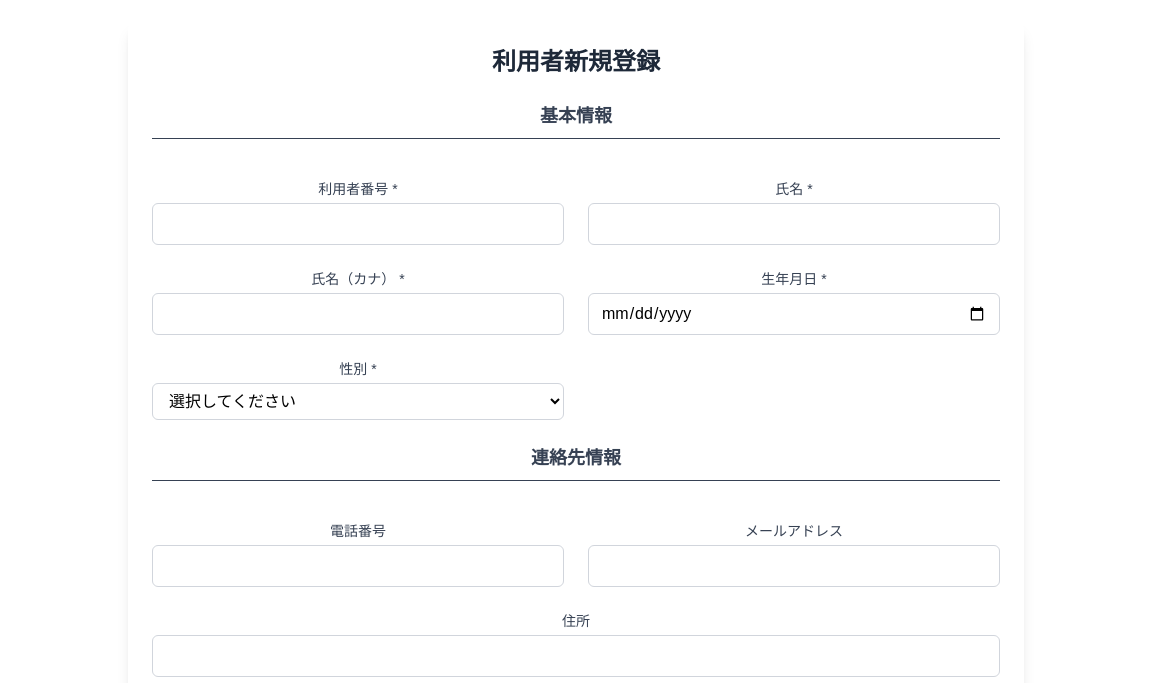
Test: ClientForm › エラーハンドリング › 利用者番号重複エラーが表示される
//  必須項目を入力
In the field labelled "利用者番号 *": {"x": 358, "y": 224} [152,203,564,245], type "CL001"
In the field labelled "氏名 *": {"x": 794, "y": 224} [588,203,1000,245], type "新規利用者"
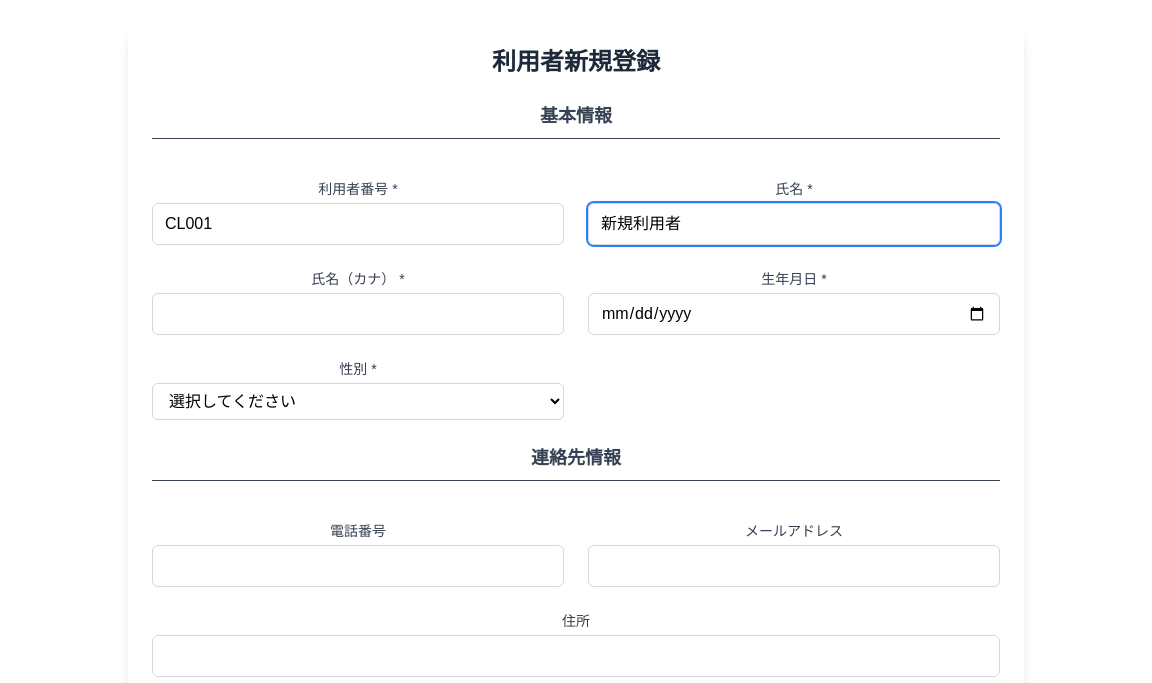
In the field labelled "氏名（カナ） *": {"x": 358, "y": 314} [152,293,564,335], type "シンキリヨウシャ"
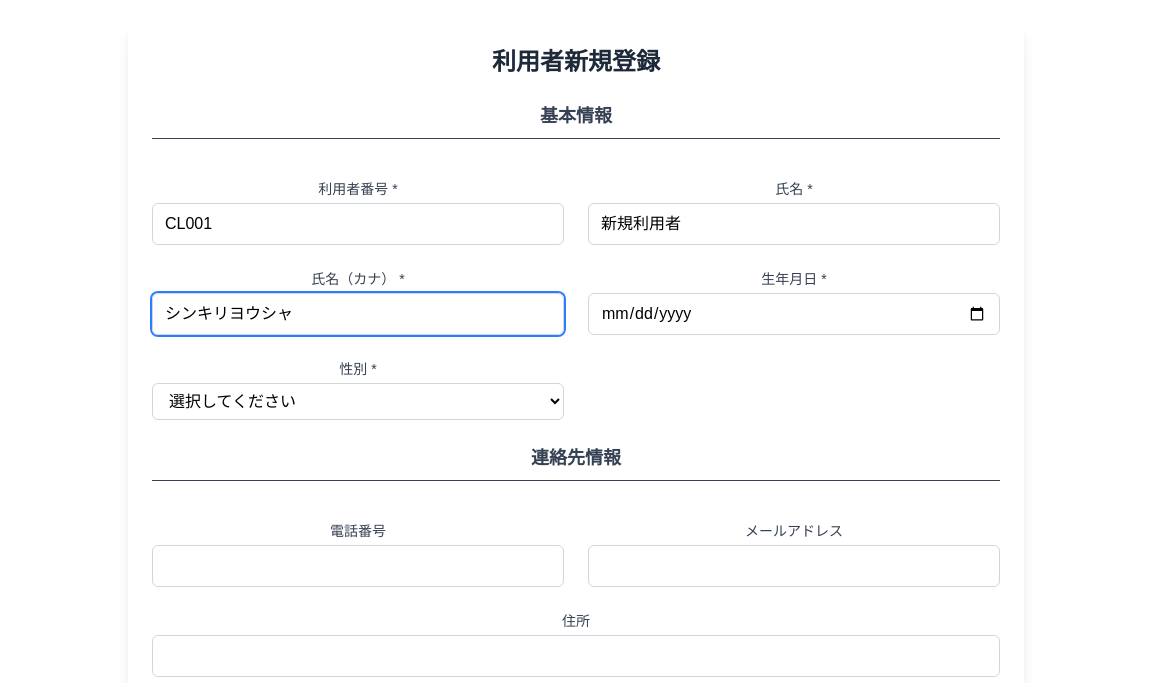
In the date field labelled "生年月日 *": {"x": 794, "y": 314} [588,293,1000,335], type "1990-01-01"
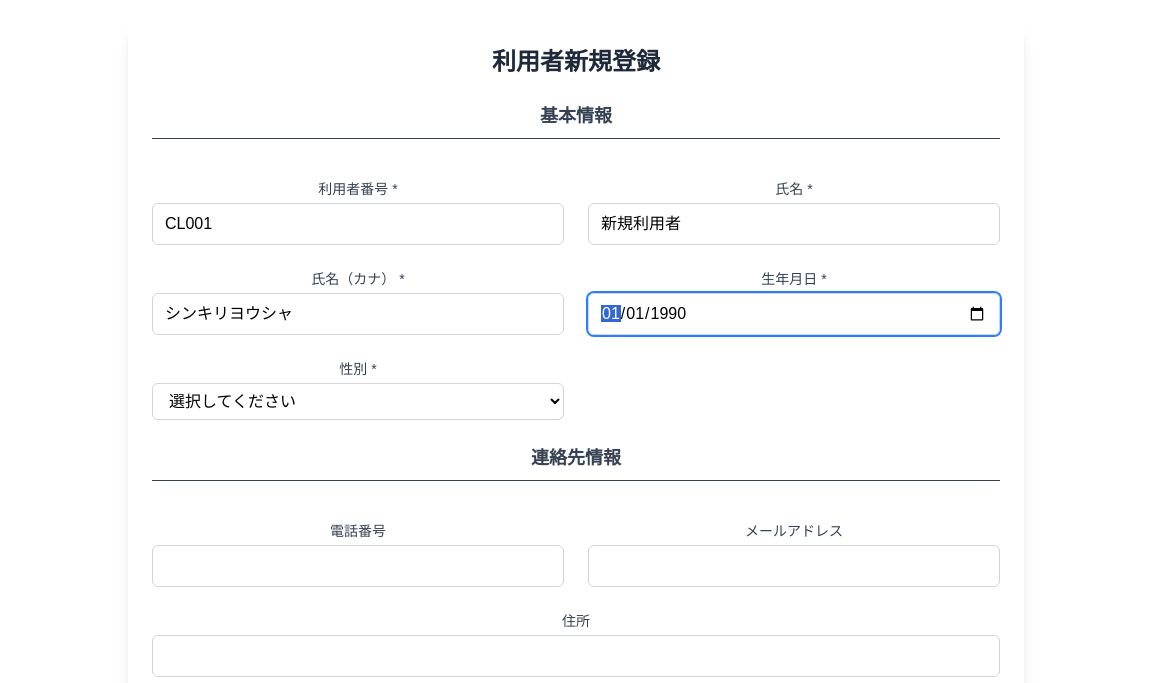
Select "その他" in the dropdown labelled "性別 *": {"x": 358, "y": 402} [152,383,564,420]
(page scrolled)
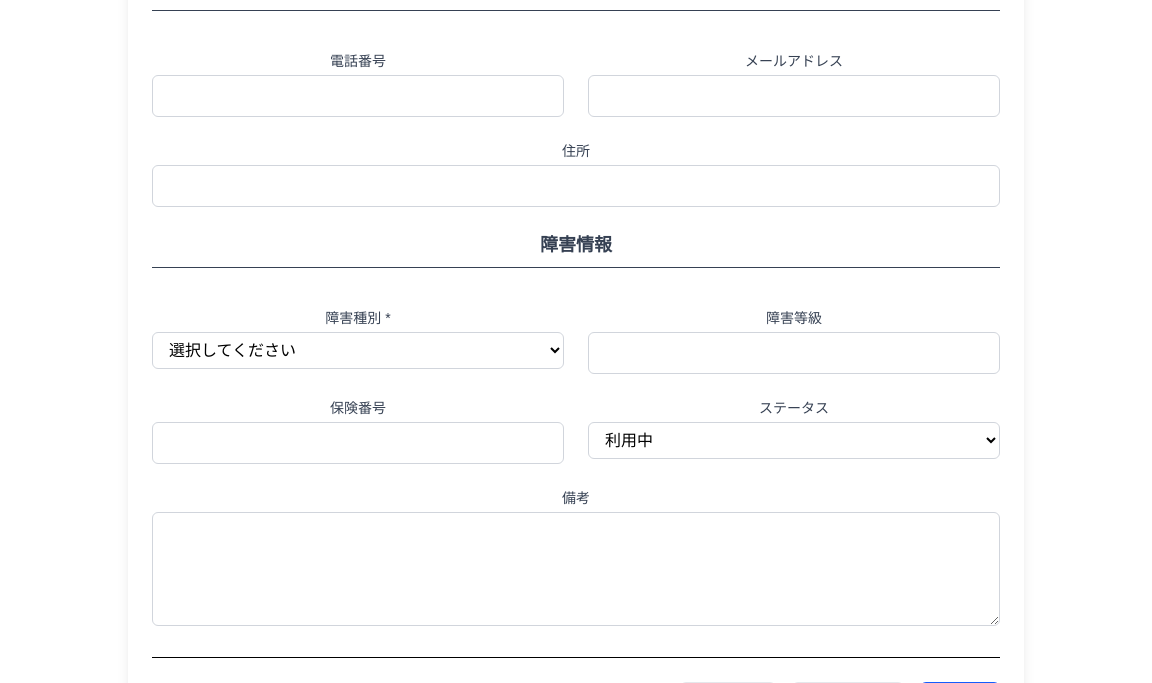
Select "身体障害" in the dropdown labelled "障害種別 *": {"x": 358, "y": 350} [152,332,564,369]
(page scrolled)
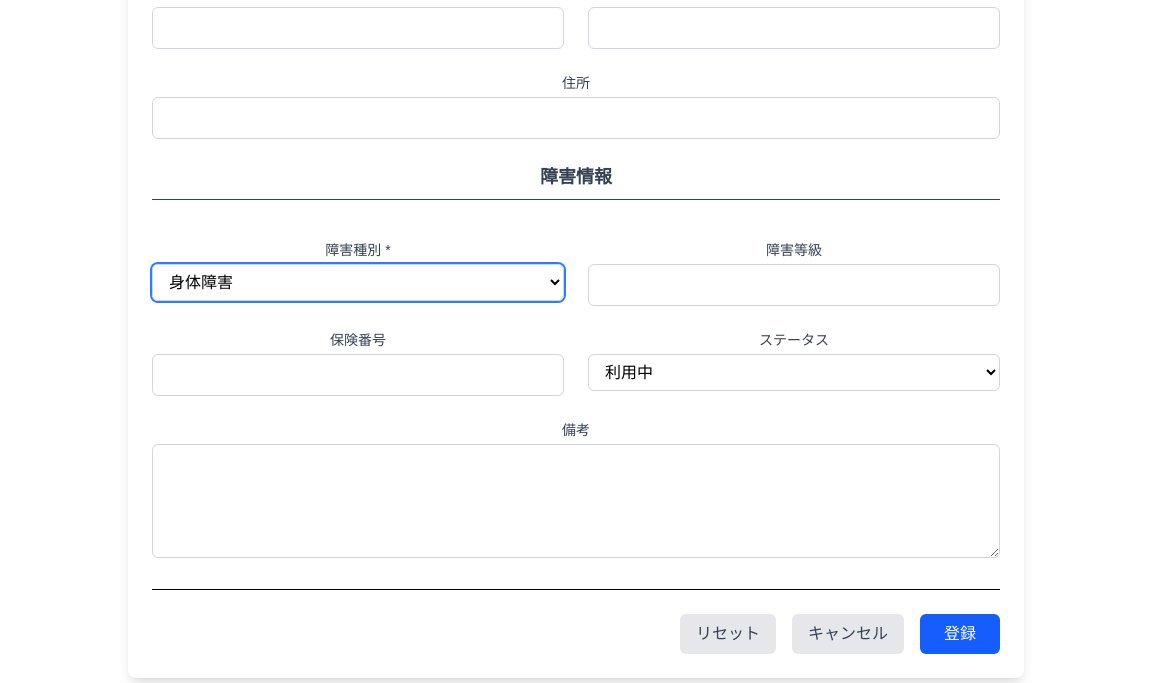
Click the button "登録": {"x": 960, "y": 634} [920,614,1000,654]
(page scrolled)
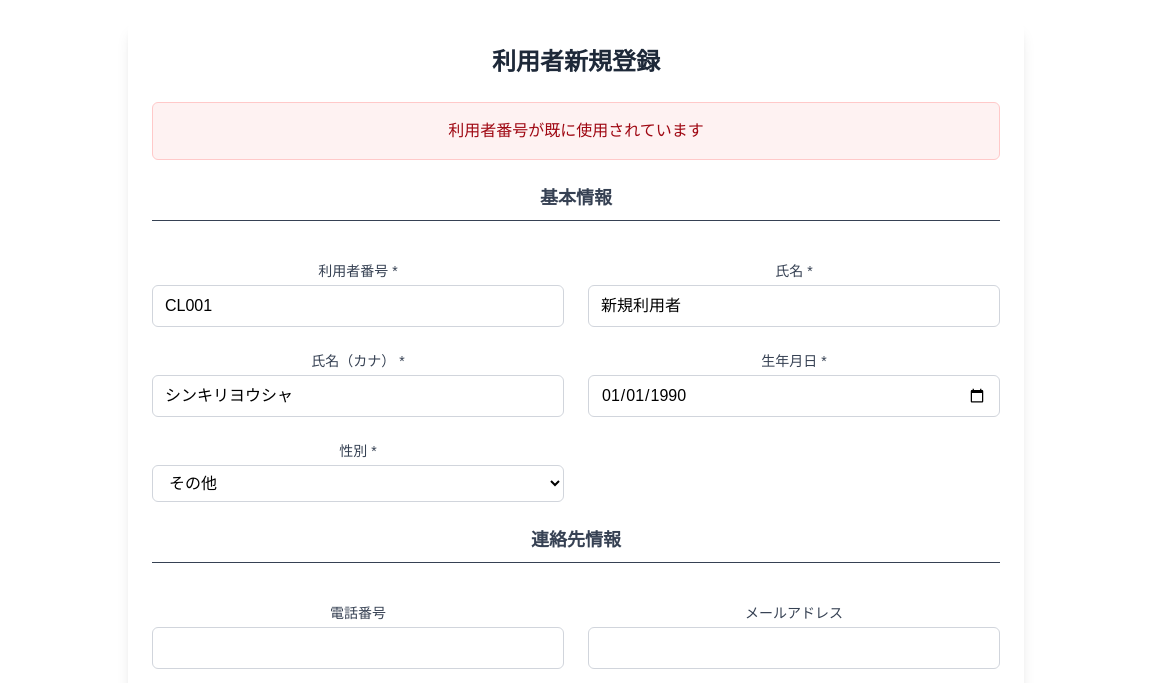
Expected: the text "利用者番号が既に使用されています" is shown, [448,122,704,139]
